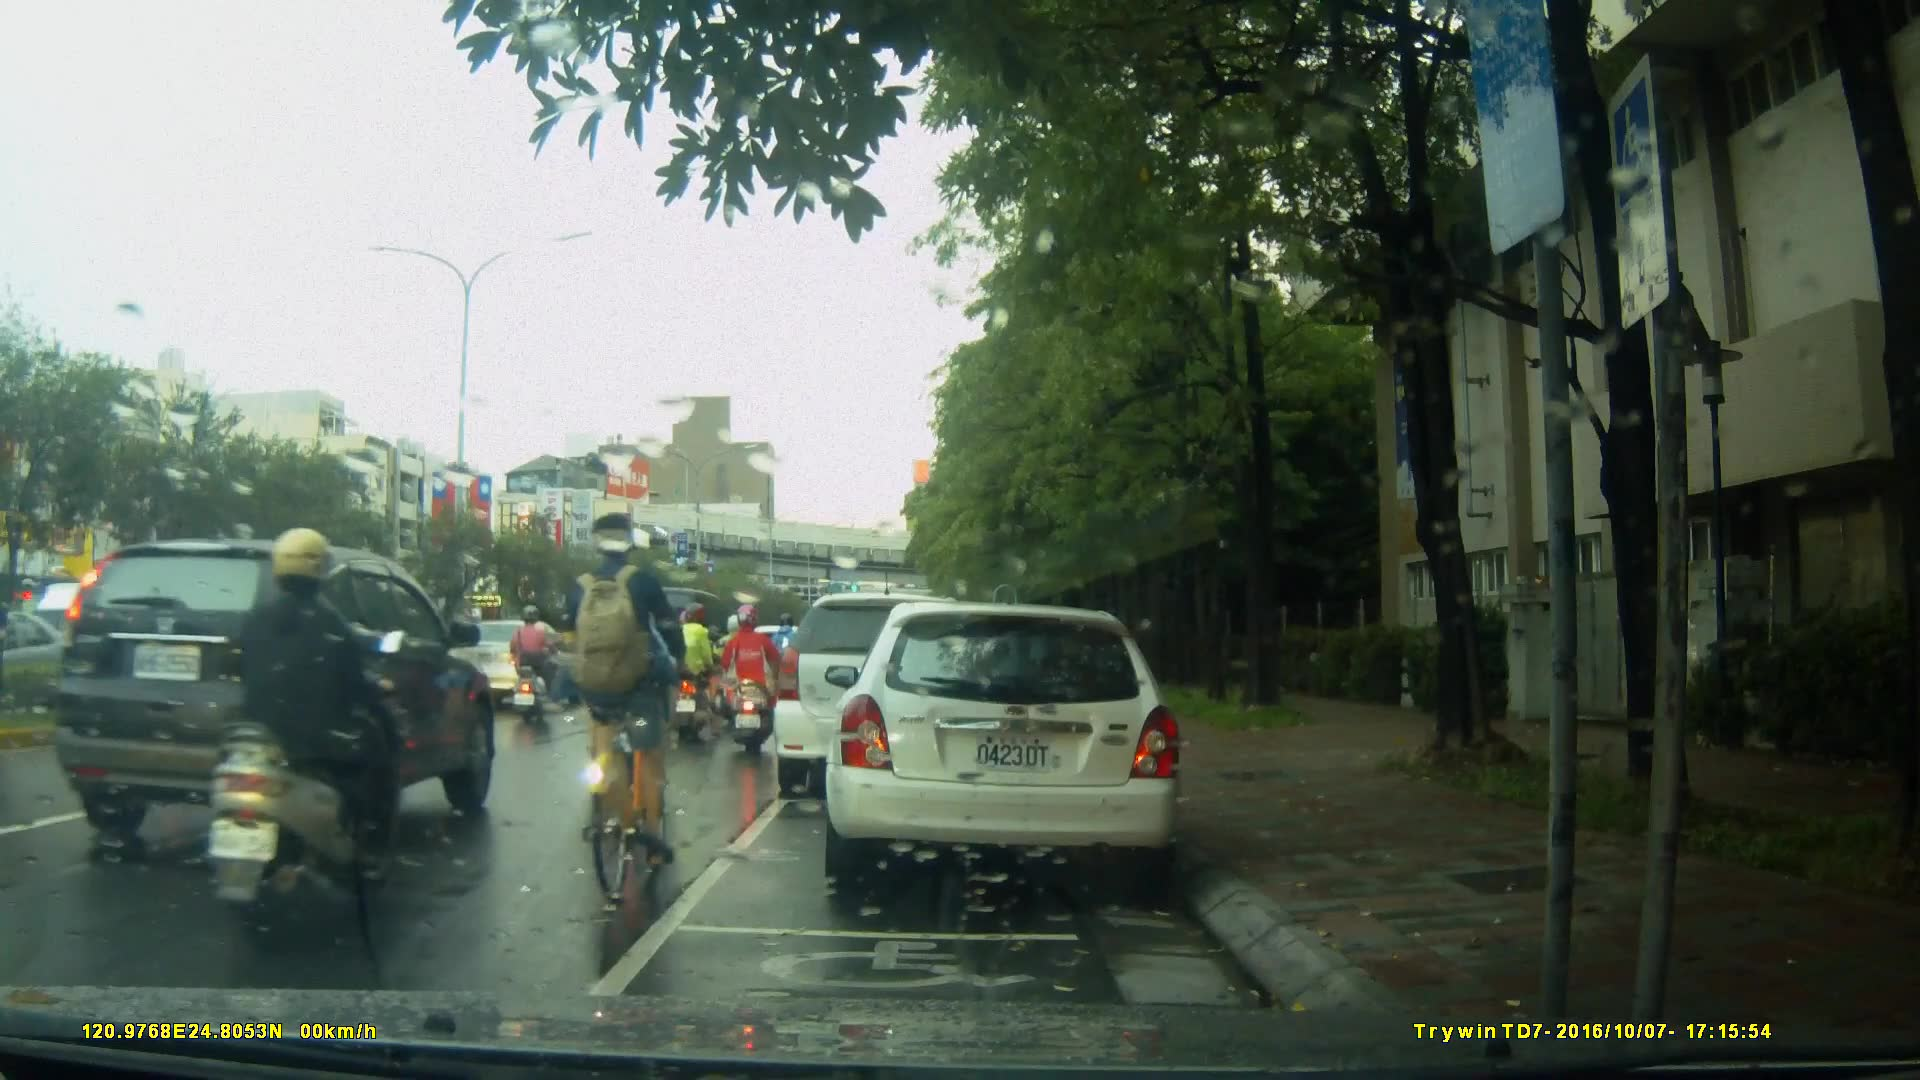rider: (204, 518, 405, 961), (580, 513, 688, 917), (711, 602, 780, 756), (662, 601, 720, 746), (508, 609, 562, 722), (763, 607, 814, 724), (710, 614, 758, 723)
vehicle: (45, 536, 493, 846), (822, 604, 1188, 883), (774, 595, 995, 802)
